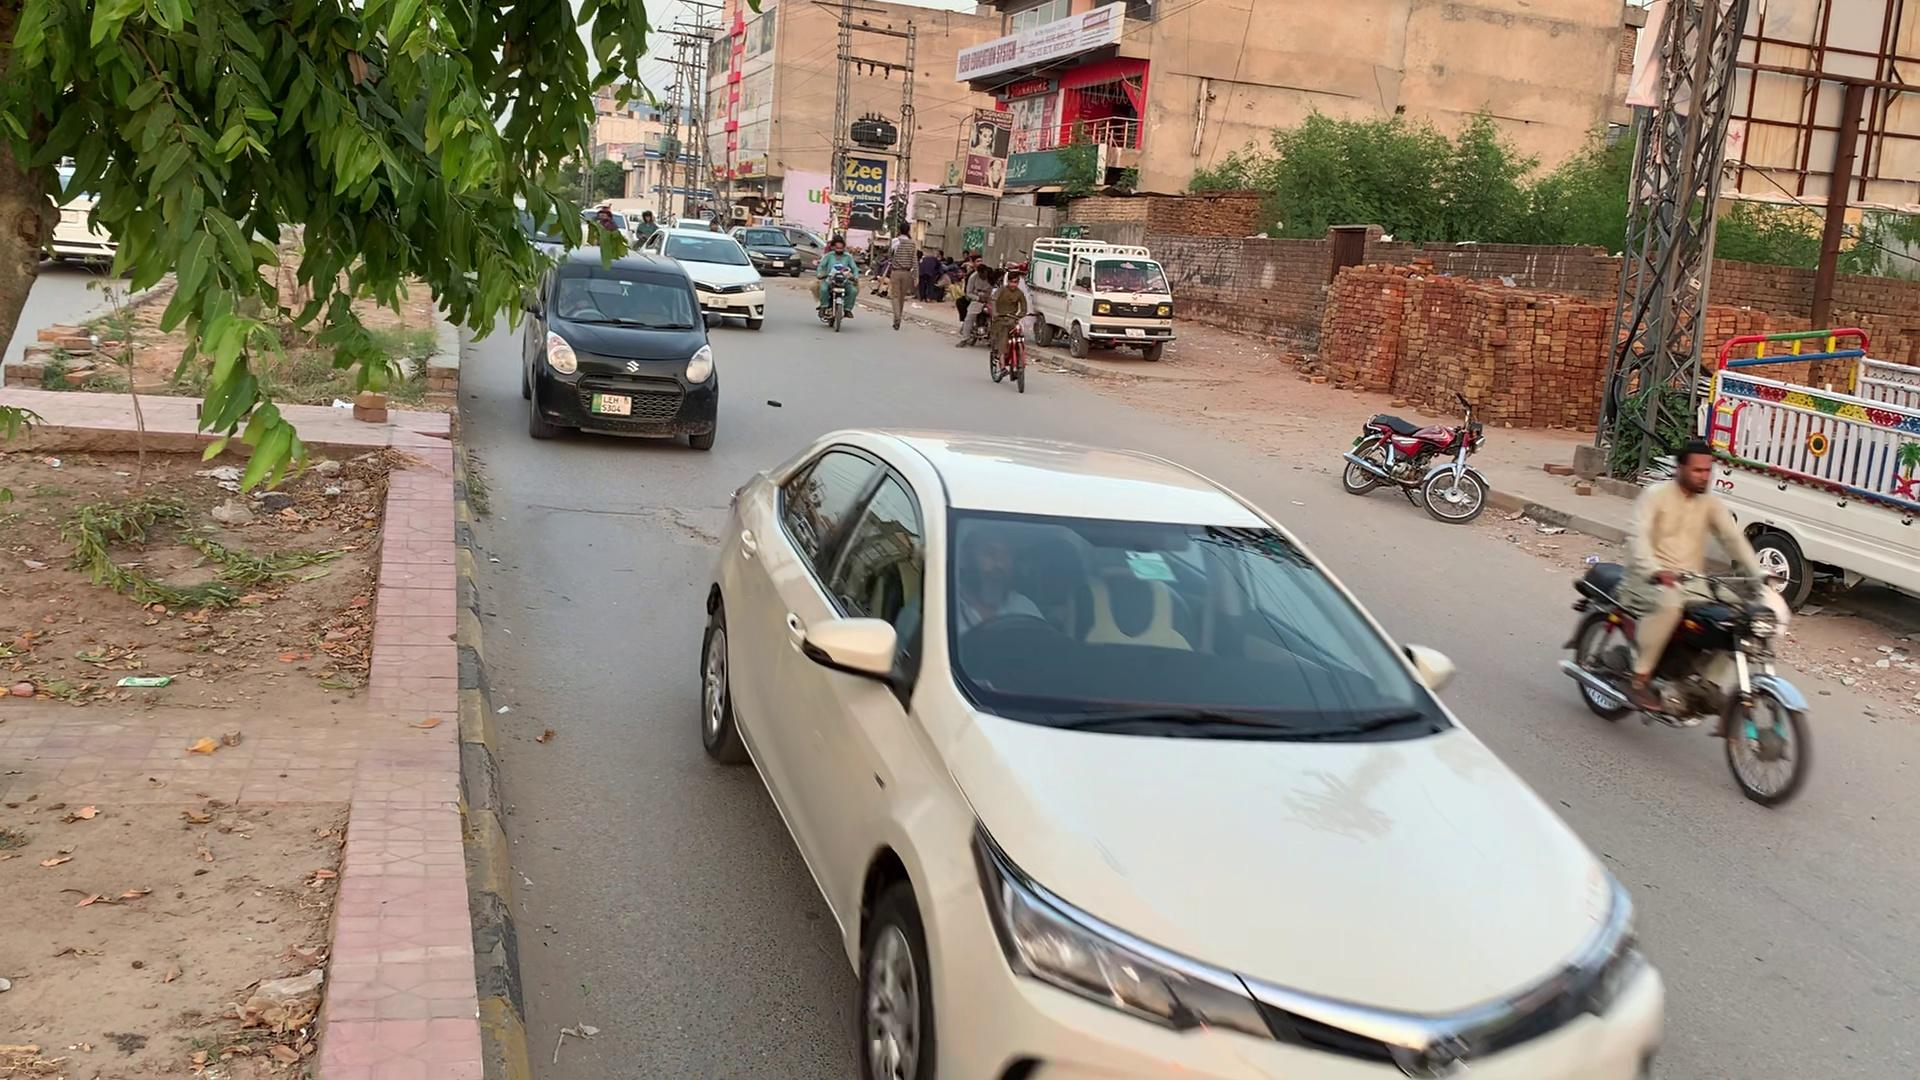windshield: (924, 497, 1468, 753)
